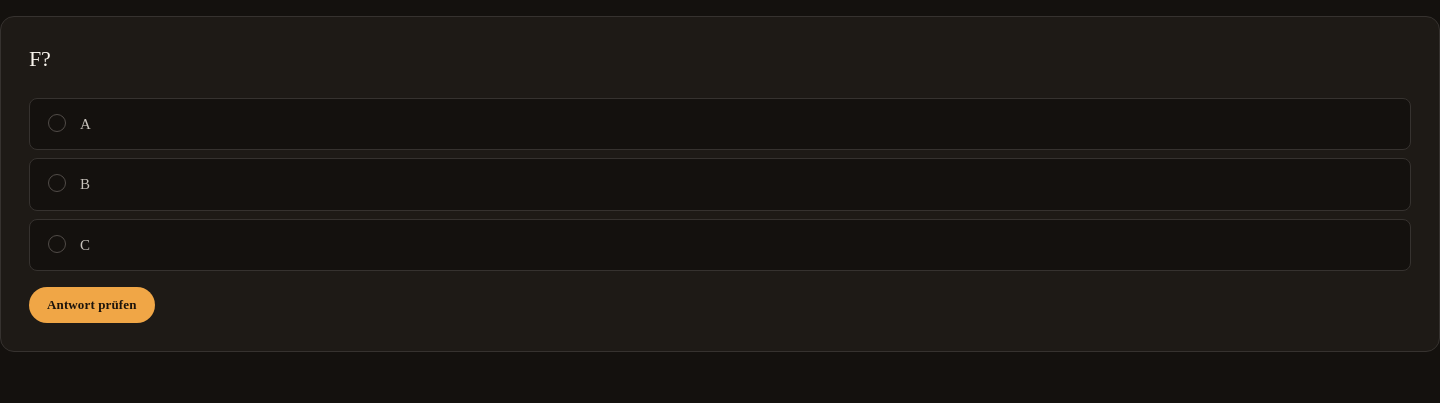
Test: Interaktion (multiple choice) › eine korrekte fehlt -> Nicht ganz
The width and height of the screenshot is (1440, 403).
Click the button "A". click: coordinates (57, 123)
box: [29,98,1411,150]
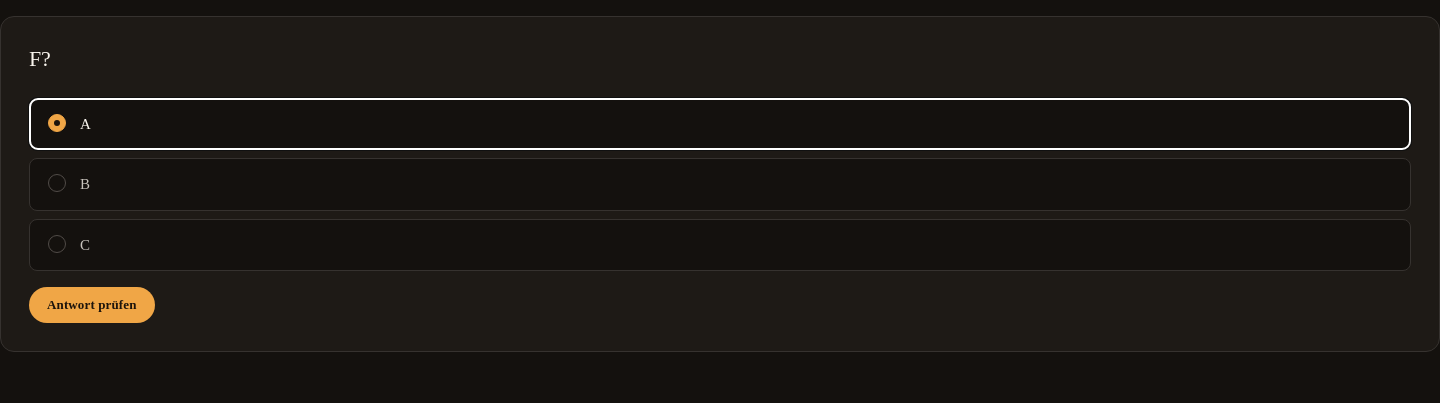
Click the button "Antwort prüfen". click: coordinates (92, 305)
box: [29,287,155,323]
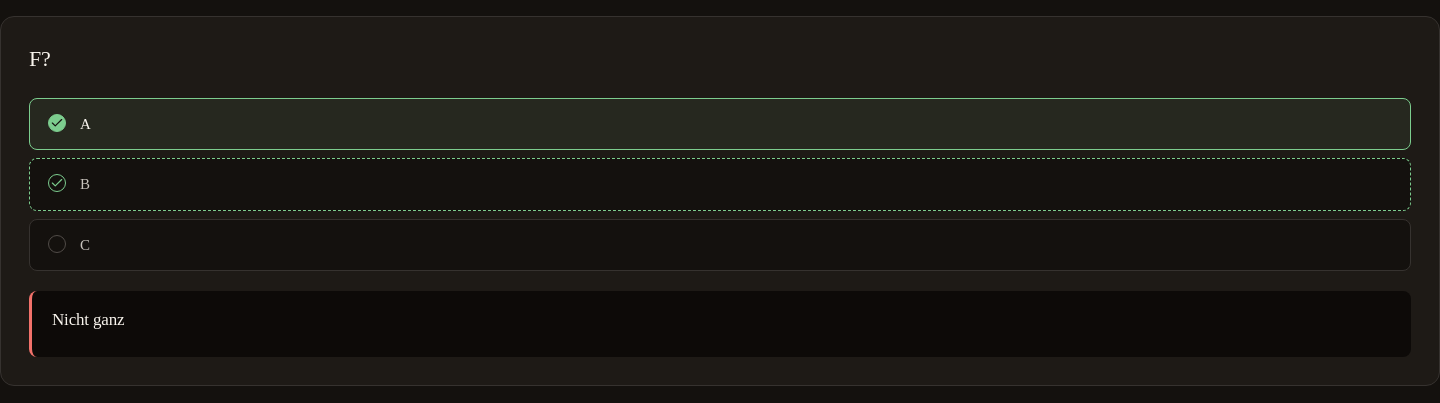
Expected: the text "Nicht ganz" is shown, [52,310,124,329]
